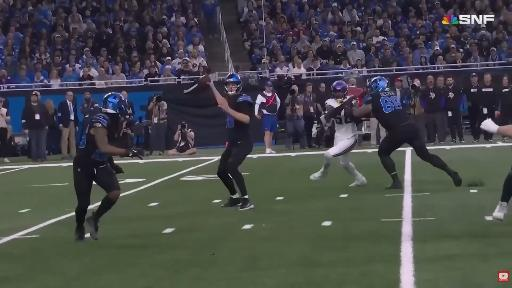Helmet: (102, 93, 126, 116), (225, 73, 242, 94), (331, 80, 348, 100), (368, 77, 388, 92)
Jersey: (77, 113, 117, 165), (364, 91, 409, 130), (227, 114, 250, 141), (333, 112, 356, 138)
Player: (346, 77, 461, 188), (74, 93, 143, 240), (210, 73, 253, 210), (310, 81, 366, 186), (493, 170, 511, 220)
